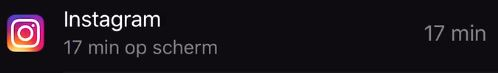name: (59, 5, 169, 34)
time: (60, 36, 124, 63)
